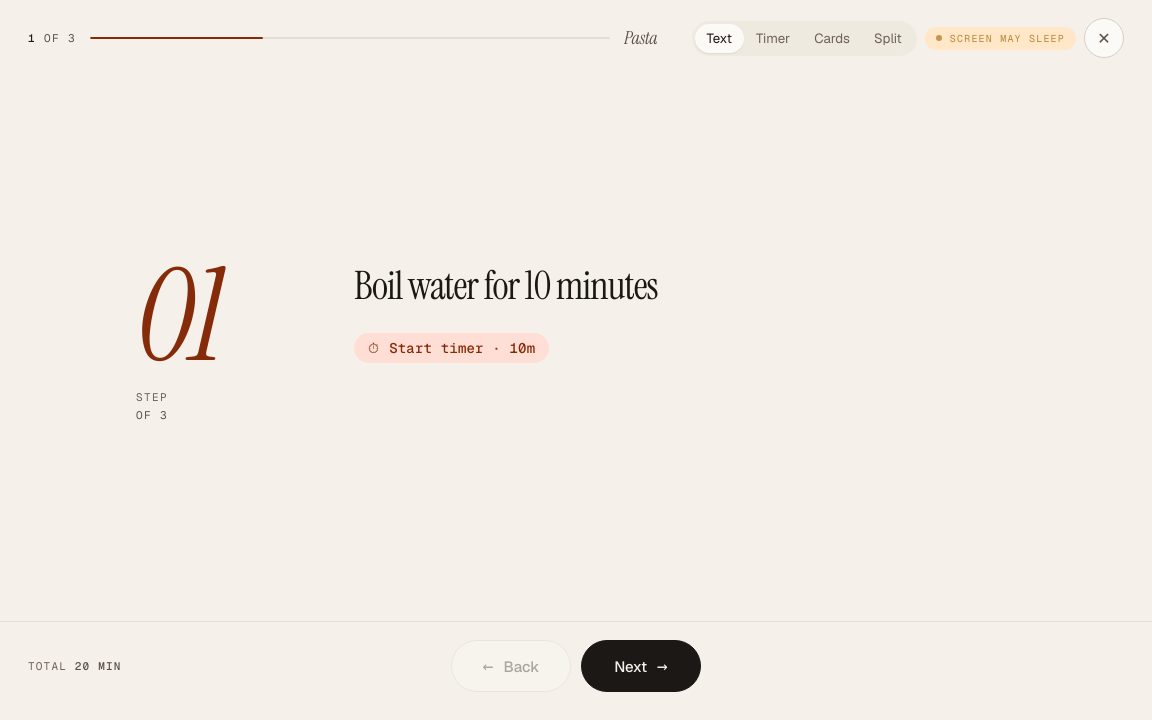
Test: CookingMode – exit confirmation › asks to confirm when leaving past the first step
Click the button "Next →": [641, 666] box [581, 640, 701, 692]
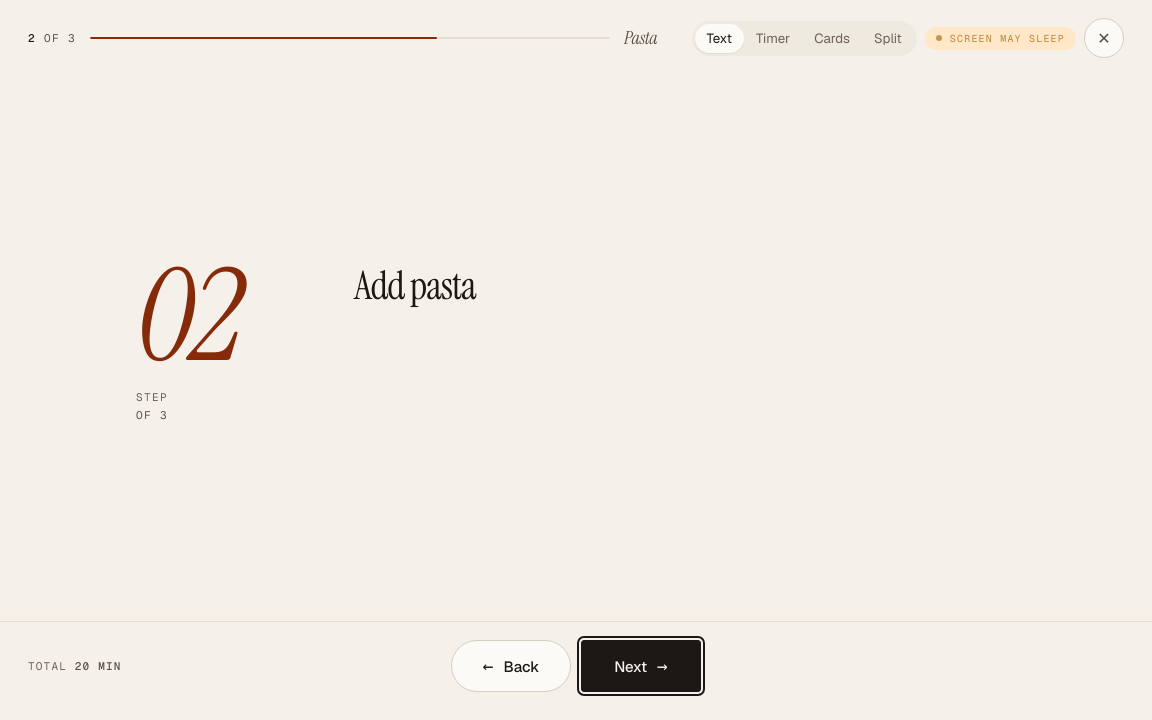
Click the button named "Close cooking mode": [1104, 38] box [1084, 18, 1124, 58]
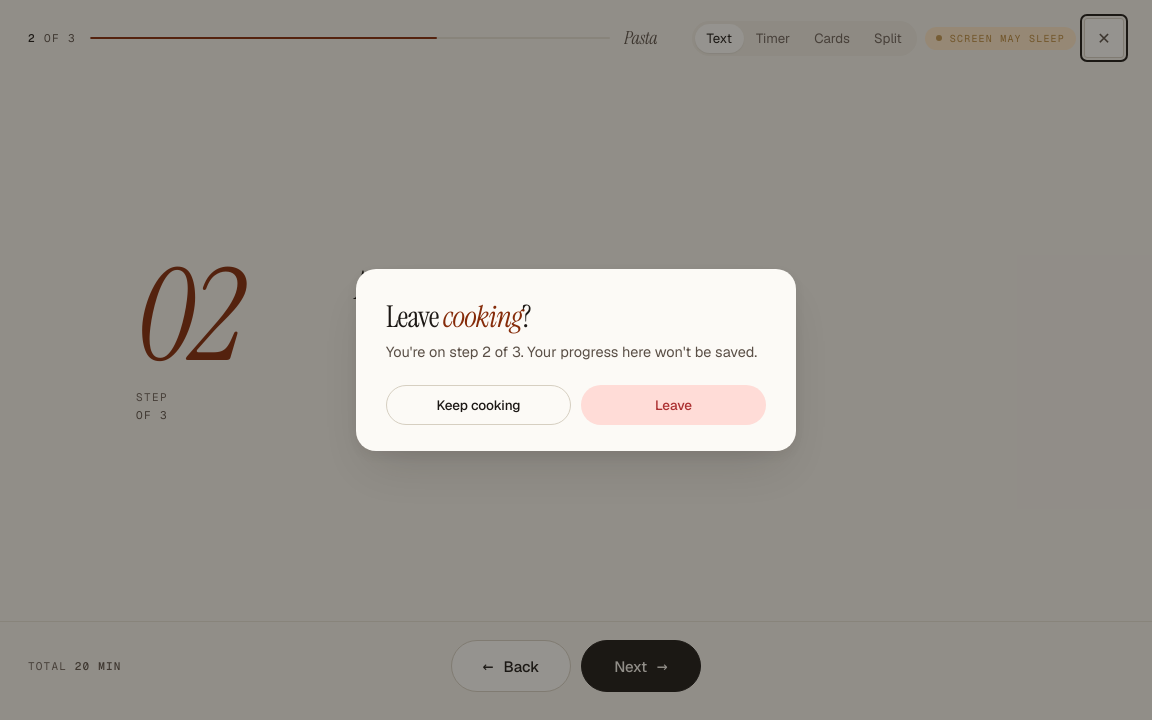
Expected: the dialog is shown, [356, 269, 796, 451]
